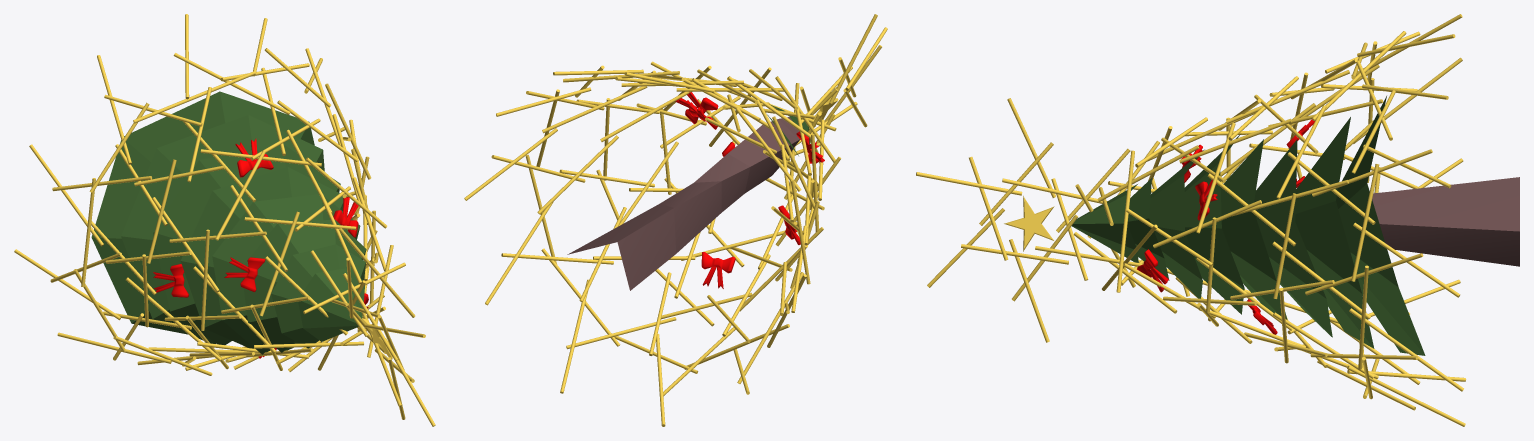
File: tree_stix_v3.gltf
3 renders of one model, left to right at view 1: azimuth 30°, elevation 25°; view 2: azimuth 150°, elevation 25°; view 3: azimuth 270°, elevation 25°, orthographic. The views are drawn at different scales.
Visible parts, largest first — view 1: Star_ChristmasTree_0 (×26), Cone.007_ChristmasTree_0, Cone.006_ChristmasTree_0, Cone.004_ChristmasTree_0, Cone.005_ChristmasTree_0, Cone.003_ChristmasTree_0, Cone.002_ChristmasTree_0, Cone.001_ChristmasTree_0, Cone_ChristmasTree_0, Ribbon.01_ChristmasTree_0 (×4); view 2: Stem_ChristmasTree_0, Star_ChristmasTree_0 (×19), Ribbon.01_ChristmasTree_0 (×2); view 3: Stem_ChristmasTree_0, Cone.006_ChristmasTree_0, Cone.007_ChristmasTree_0, Cone.005_ChristmasTree_0, Cone.004_ChristmasTree_0, Cone.003_ChristmasTree_0, Cone.002_ChristmasTree_0, Star_ChristmasTree_0 (×4), Cone_ChristmasTree_0, Cone.001_ChristmasTree_0.
Boxes of the visible parts, box(x1,y1,x2,y2) form: Star_ChristmasTree_0 (×26): box(14, 53, 415, 375); Cone.007_ChristmasTree_0: box(91, 91, 314, 334); Cone.006_ChristmasTree_0: box(121, 115, 324, 343); Cone.004_ChristmasTree_0: box(180, 167, 343, 348); Cone.005_ChristmasTree_0: box(153, 145, 340, 344); Cone.003_ChristmasTree_0: box(212, 194, 360, 354); Cone.002_ChristmasTree_0: box(241, 220, 366, 352); Cone.001_ChristmasTree_0: box(271, 244, 365, 348); Cone_ChristmasTree_0: box(298, 268, 364, 341); Ribbon.01_ChristmasTree_0 (×4): box(153, 138, 358, 297); Stem_ChristmasTree_0: box(567, 117, 800, 290); Star_ChristmasTree_0 (×19): box(464, 14, 877, 393); Ribbon.01_ChristmasTree_0 (×2): box(675, 92, 735, 288); Stem_ChristmasTree_0: box(1372, 177, 1519, 266); Cone.006_ChristmasTree_0: box(1295, 117, 1374, 348); Cone.007_ChristmasTree_0: box(1336, 96, 1425, 355); Cone.005_ChristmasTree_0: box(1254, 139, 1332, 337); Cone.004_ChristmasTree_0: box(1220, 139, 1287, 319); Cone.003_ChristmasTree_0: box(1184, 134, 1244, 314); Cone.002_ChristmasTree_0: box(1149, 149, 1204, 298); Star_ChristmasTree_0 (×4): box(1004, 150, 1465, 426); Cone_ChristmasTree_0: box(1072, 184, 1138, 262); Cone.001_ChristmasTree_0: box(1127, 178, 1169, 280).
Bounding box in the file's own units: 0.0179 × 0.0178 × 0.0264.
Materials: 2 (1 with a texture image).
